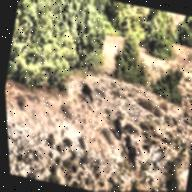boar: (72, 77, 99, 106), (105, 114, 129, 143), (119, 134, 134, 158)
